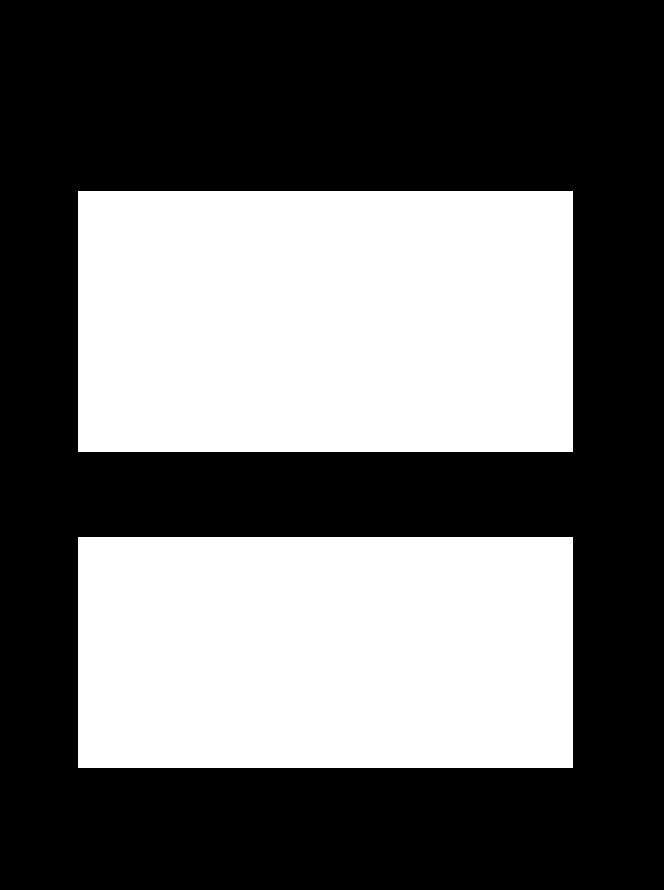table: (78, 191, 572, 451), (78, 537, 572, 767)
